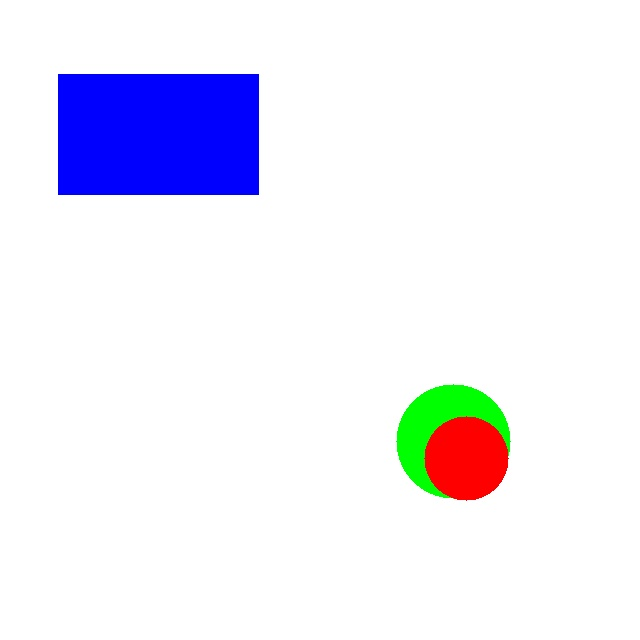cartao: (58, 74, 258, 194)
rosca_externa: (396, 384, 510, 498)
rosca_interna: (424, 416, 508, 500)
